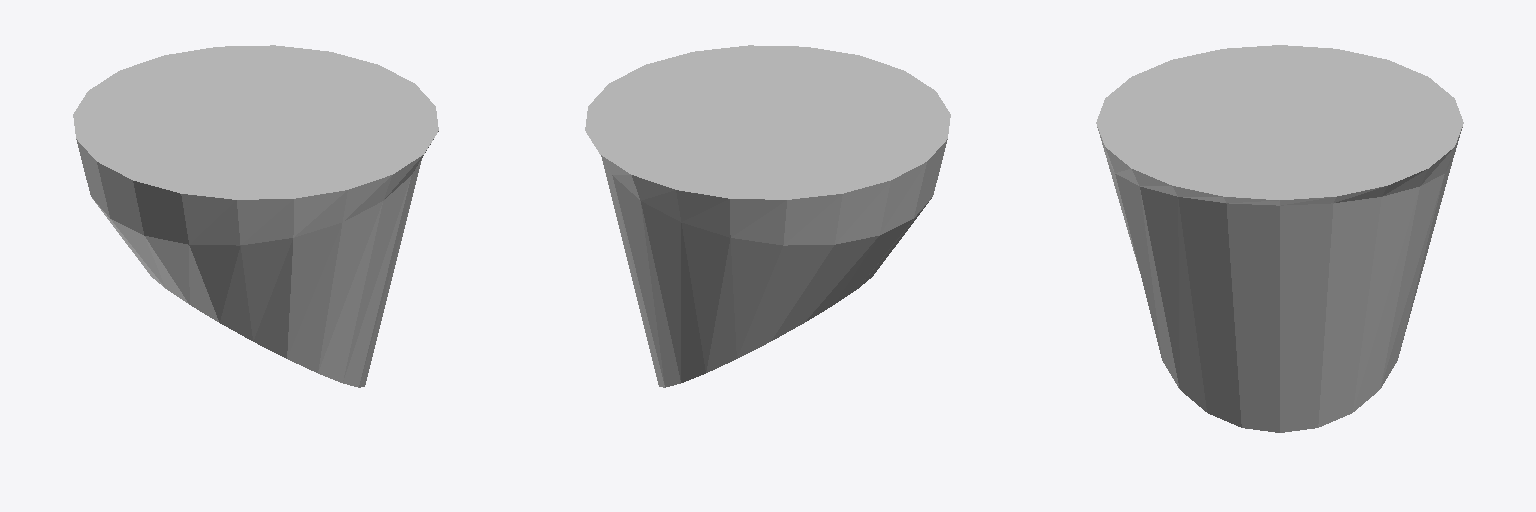
File: arm3_cover.obj
The picture shows the model from 3 angles: view 1: azimuth 30°, elevation 25°; view 2: azimuth 150°, elevation 25°; view 3: azimuth 270°, elevation 25°; orthographic projection.
Visible parts, largest first — view 1: R_arm15; view 2: R_arm15; view 3: R_arm15.
Boxes of the visible parts, box(x1,y1,x2,y2) form: R_arm15: box(73, 45, 438, 387); R_arm15: box(585, 45, 950, 387); R_arm15: box(1096, 45, 1463, 432).
Size of the model in its own units: 0.856 by 0.6845 by 0.856.